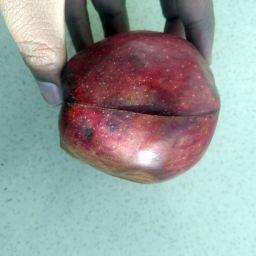apple: (41, 10, 233, 201)
